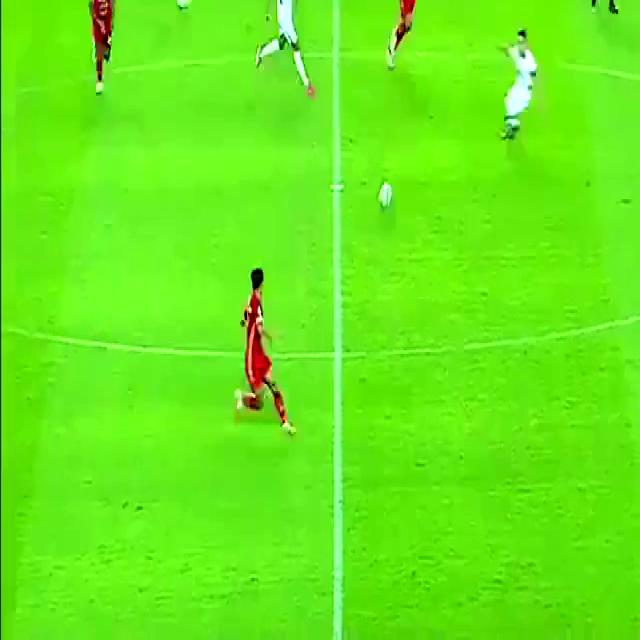ball: (370, 162, 402, 215)
referee: (578, 0, 635, 27)
soccer-player: (228, 259, 297, 436), (248, 0, 322, 101), (493, 22, 552, 146), (75, 0, 125, 107), (378, 0, 441, 76)
